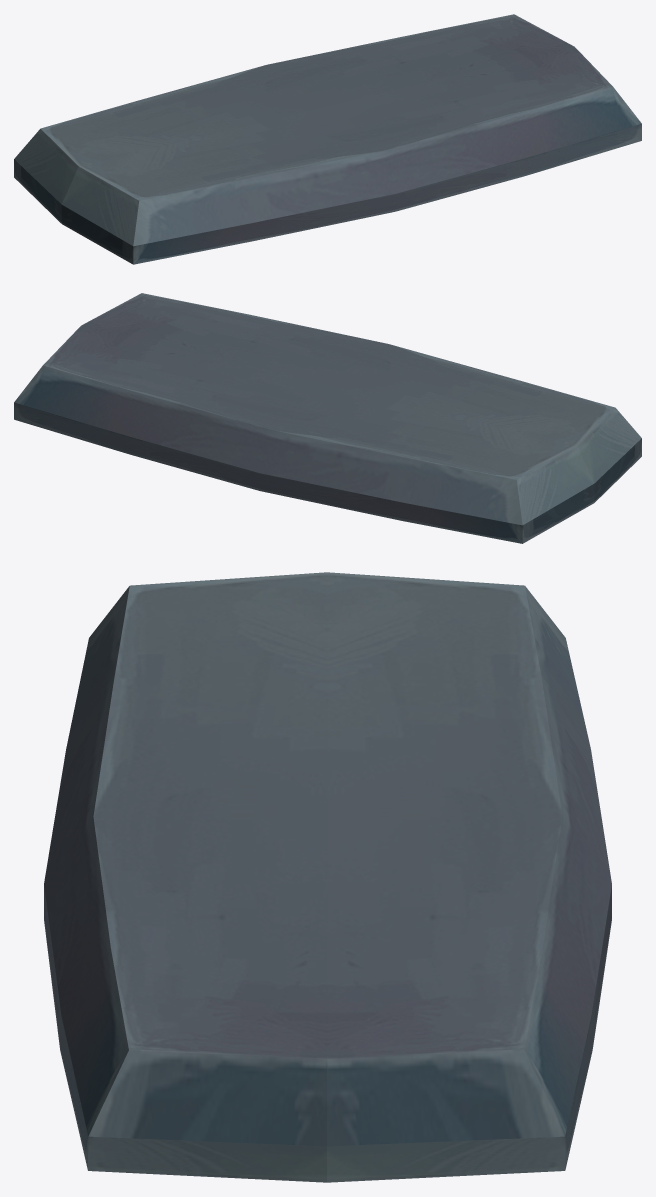
The model's file is A_CR_GEN_SarcophagusLid_01.fbx.
The picture shows the model from 3 angles, top to bottom: view 1: azimuth 30°, elevation 25°; view 2: azimuth 150°, elevation 25°; view 3: azimuth 270°, elevation 25°; orthographic projection. The views are drawn at different scales.
Parts seen in each view (by area): view 1: A_CR_GEN_SarcophagusLid_01; view 2: A_CR_GEN_SarcophagusLid_01; view 3: A_CR_GEN_SarcophagusLid_01.
Part boxes in pixels (<box>): A_CR_GEN_SarcophagusLid_01: <box>14,14,641,264</box>; A_CR_GEN_SarcophagusLid_01: <box>14,293,641,543</box>; A_CR_GEN_SarcophagusLid_01: <box>44,572,611,1182</box>.
Bounding box in the file's own units: 412 × 39.63 × 190.
Materials: 1 (1 with a texture image).
